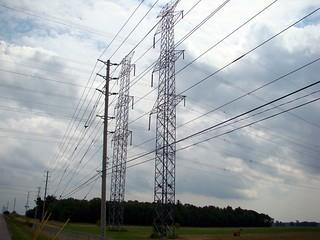power_tower: (149, 0, 188, 240), (93, 45, 142, 236)
